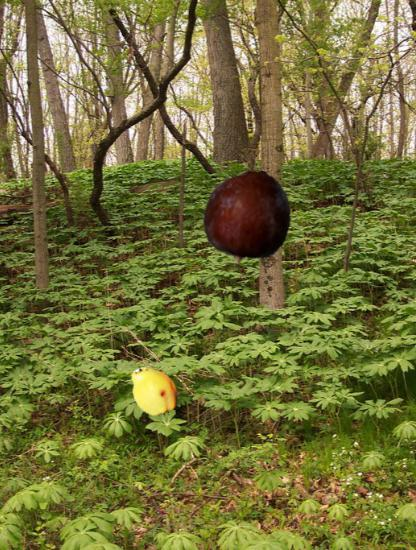Plum: (201, 169, 297, 265)
Quince: (127, 364, 182, 419)
